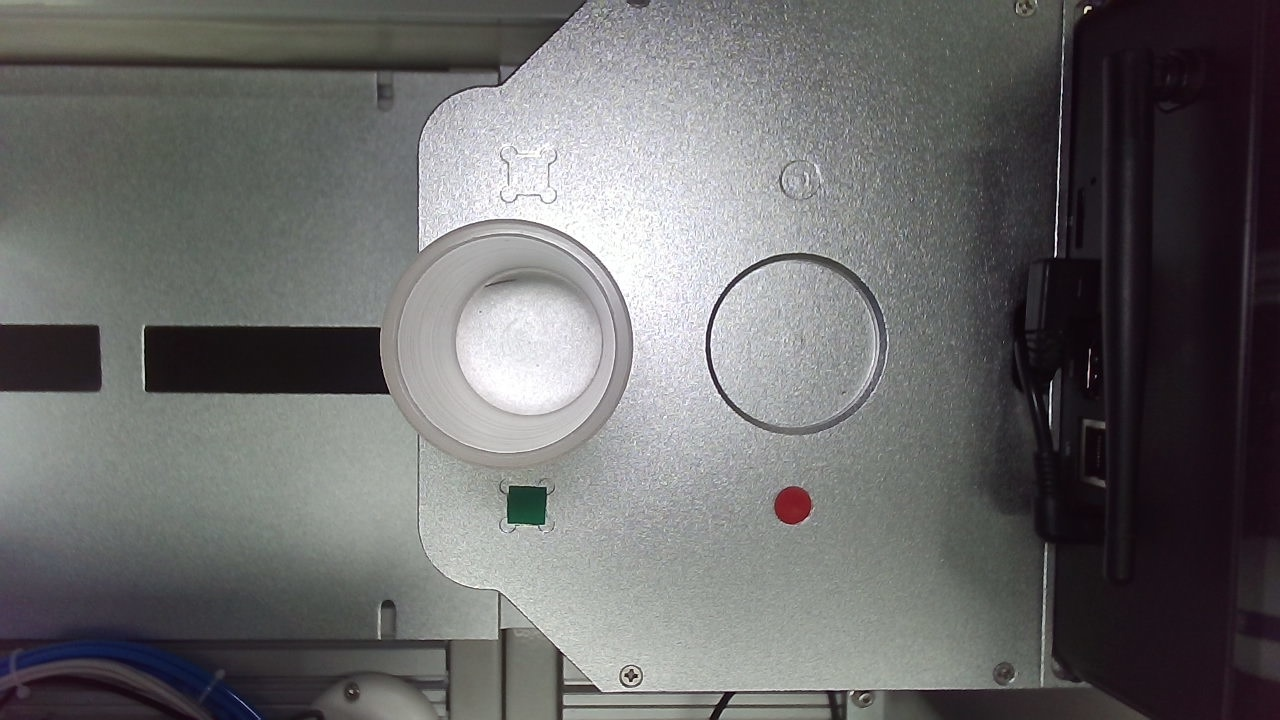XLabel: (643, 296, 677, 329)
YLabel: (423, 290, 458, 325)
none: (576, 365, 738, 528)
transparenexcept: (251, 354, 516, 569)
